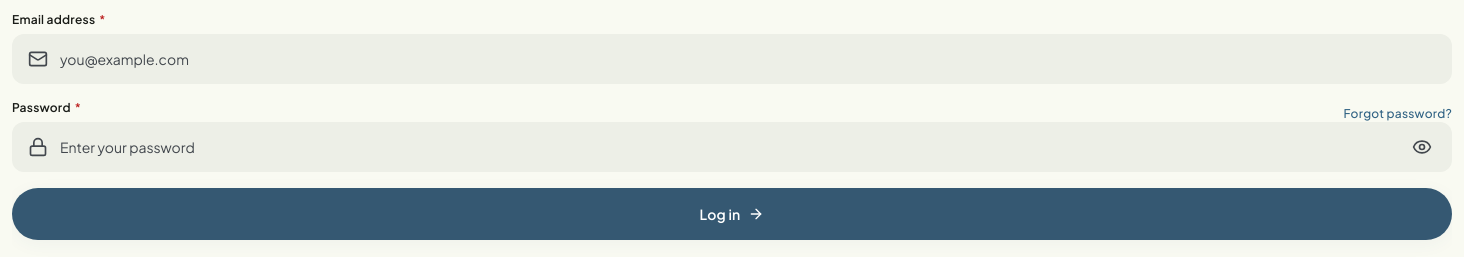
Scenario: LoginForm validation › reveals the password when the toggle is pressed
Type "password123" into the password field labelled "Password" at x=732, y=147, box [12,122,1452,172]
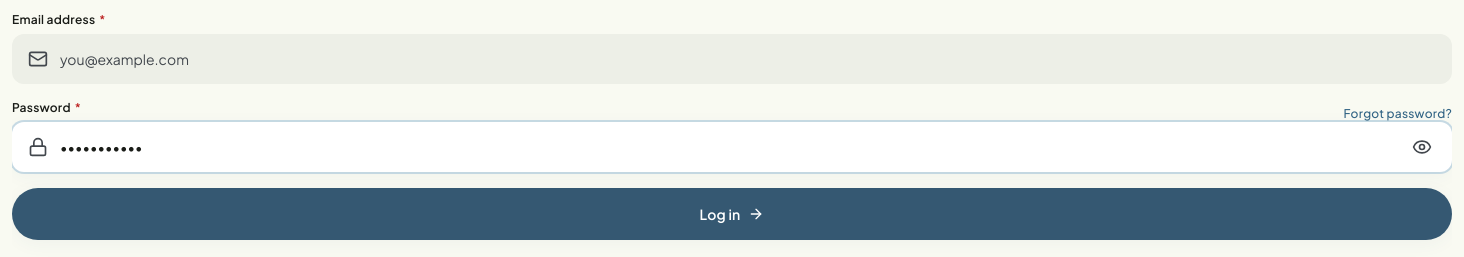
Click the button named "Show password" at x=1422, y=147, box [1400,125,1444,169]
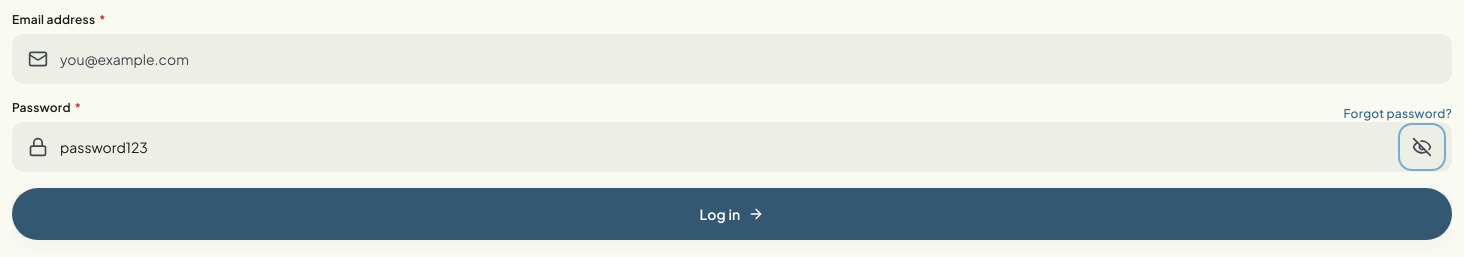
Result: the field labelled "Password" shows its text at [12,122,1452,172]
